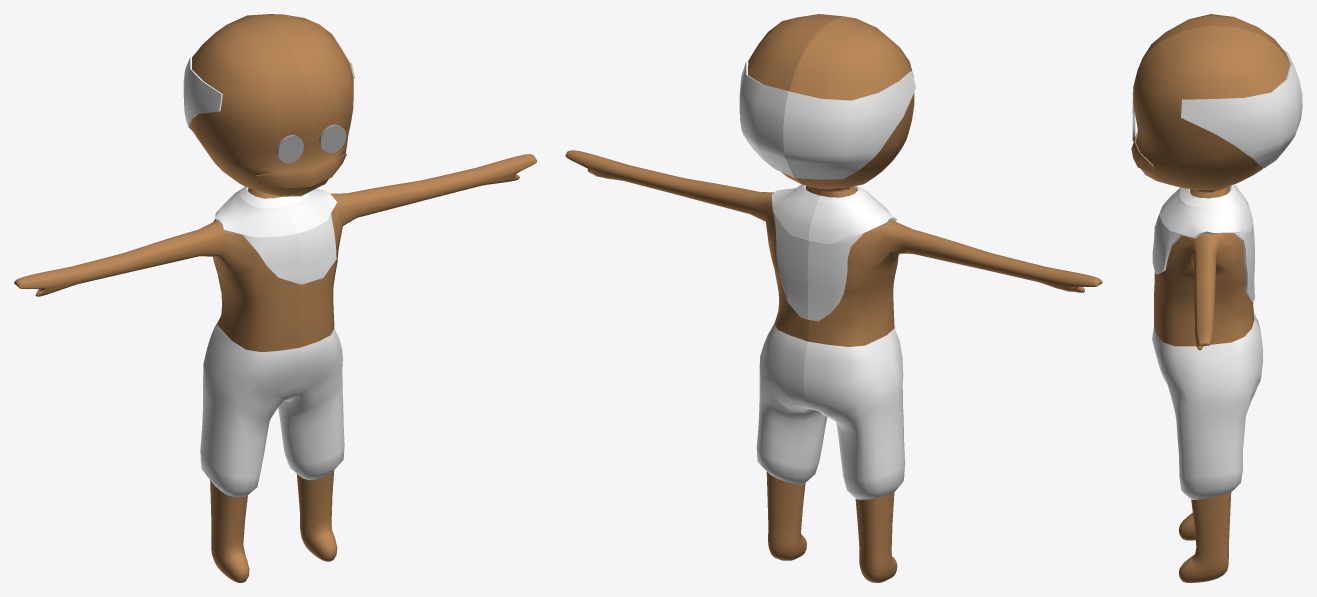
Rendered from _K_Gandhi.fbx.
3 renders of one model, left to right at view 1: azimuth 30°, elevation 25°; view 2: azimuth 150°, elevation 25°; view 3: azimuth 270°, elevation 25°, orthographic. The views are drawn at different scales.
Parts seen in each view (by area): view 1: Box003; view 2: Box003; view 3: Box003.
Boxes of the visible parts, x1,y1,x2,y2 form: Box003: [14, 14, 536, 582]; Box003: [565, 14, 1102, 582]; Box003: [1131, 14, 1302, 582].
Bounding box in the file's own units: 144 × 143 × 41.55.
